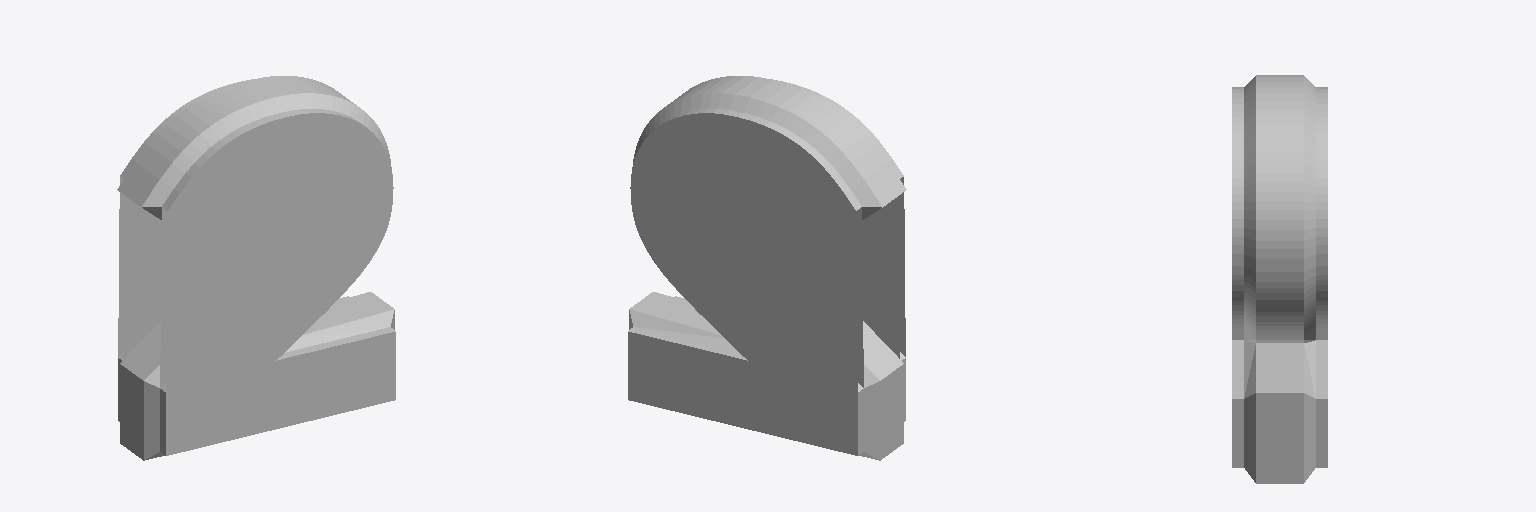
File: number02.obj
The picture shows the model from 3 angles: view 1: azimuth 30°, elevation 25°; view 2: azimuth 150°, elevation 25°; view 3: azimuth 270°, elevation 25°; orthographic projection.
Parts seen in each view (by area): view 1: Cap_2_1, 2, Rounding_2, Cap_1, 2_1, Cap_2, Cap_1_1; view 2: Cap_1_1, 2, Rounding_1, Cap_2, 2_1, Cap_1, Cap_2_1; view 3: 2, 2_1, Rounding_1, Rounding_2.
Part boxes in pixels (left/top/right/bottom): Cap_2_1: left=166, top=113, right=395, bottom=455; 2: left=117, top=76, right=393, bottom=460; Rounding_2: left=141, top=93, right=394, bottom=460; Cap_1: left=124, top=197, right=161, bottom=358; 2_1: left=118, top=79, right=395, bottom=455; Cap_2: left=160, top=207, right=167, bottom=387; Cap_1_1: left=118, top=177, right=125, bottom=356; Cap_1_1: left=628, top=113, right=857, bottom=455; 2: left=630, top=76, right=906, bottom=460; Rounding_1: left=629, top=93, right=882, bottom=460; Cap_2: left=862, top=197, right=899, bottom=358; 2_1: left=628, top=79, right=905, bottom=455; Cap_1: left=856, top=207, right=863, bottom=387; Cap_2_1: left=898, top=177, right=905, bottom=356; 2: left=1256, top=75, right=1303, bottom=483; 2_1: left=1232, top=87, right=1327, bottom=467; Rounding_1: left=1304, top=76, right=1315, bottom=482; Rounding_2: left=1244, top=76, right=1255, bottom=482.
Bounding box in the file's own units: 122 × 152 × 40.